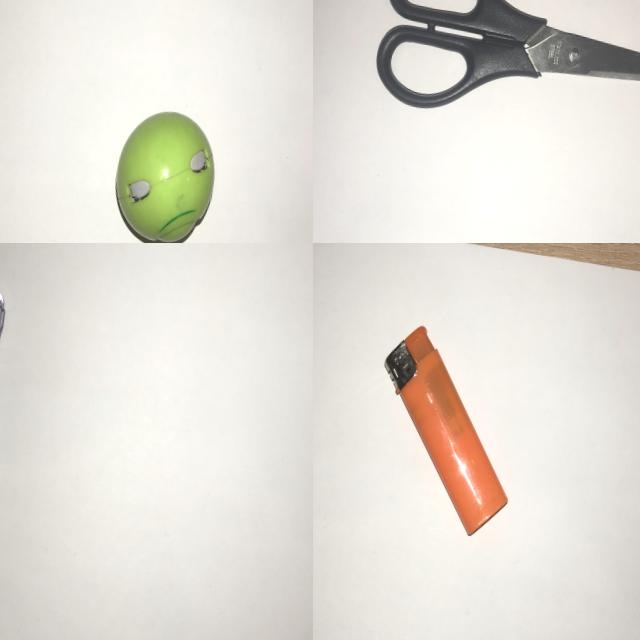lighter: (354, 317, 536, 549)
scissors: (363, 0, 640, 155)
toy: (100, 97, 229, 243)
